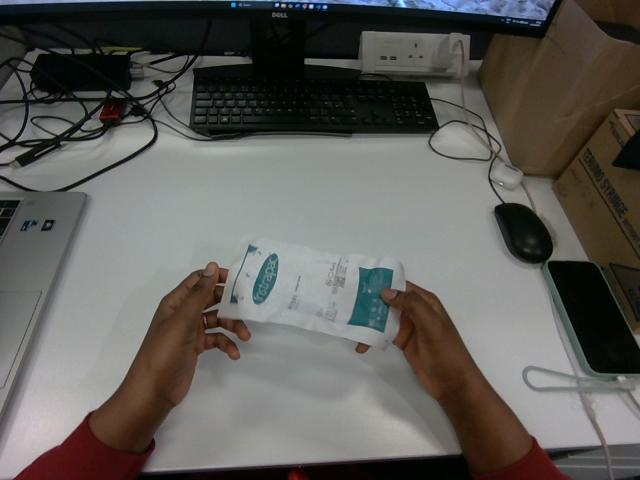gallipot: (218, 236, 405, 348)
